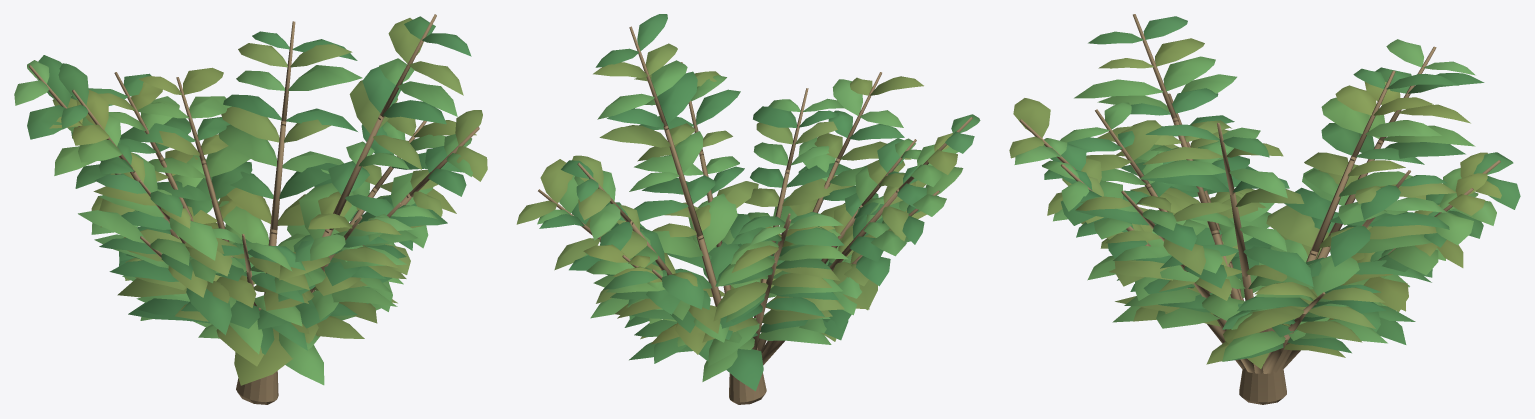
The model's file is bush.15a73bf7.glb.
3 renders of one model, left to right at view 1: azimuth 30°, elevation 25°; view 2: azimuth 150°, elevation 25°; view 3: azimuth 270°, elevation 25°, orthographic. The views are drawn at different scales.
Visible parts, largest first — view 1: bush; view 2: bush; view 3: bush.
Boxes of the visible parts, x1=… form: bush: x1=14, y1=14, x2=487, y2=404; bush: x1=516, y1=14, x2=980, y2=404; bush: x1=1009, y1=14, x2=1520, y2=404.
Size of the model in its own units: 1.22 by 1.01 by 1.34.
